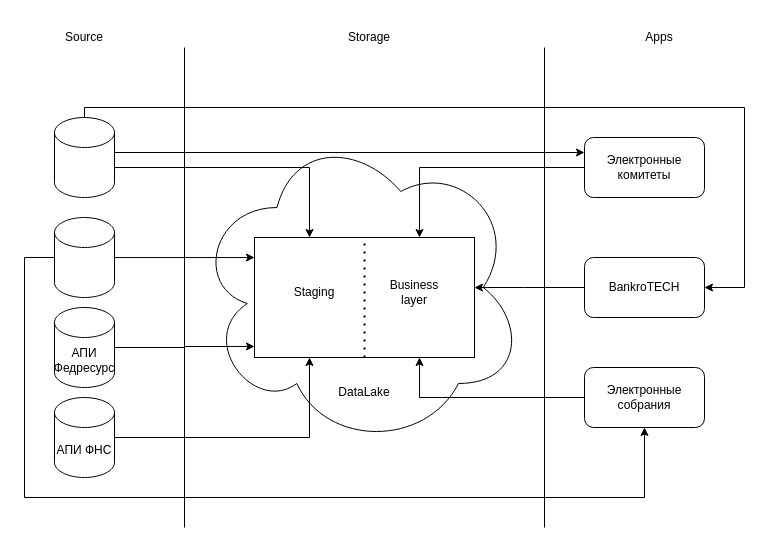
This 770x546 diagram has some shape labels left out. Each missing label, with the box of its shape:
АПИ Casebook: (54, 116, 114, 198)
АПИ ЕФРСБ: (54, 216, 114, 298)
